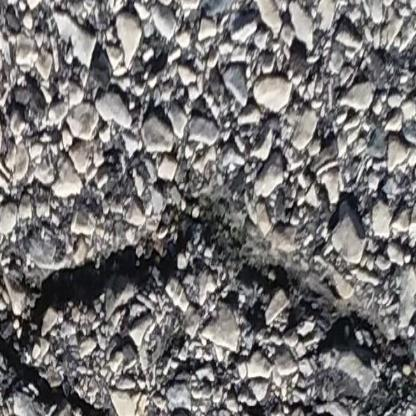Cracks: (0, 201, 405, 416)
